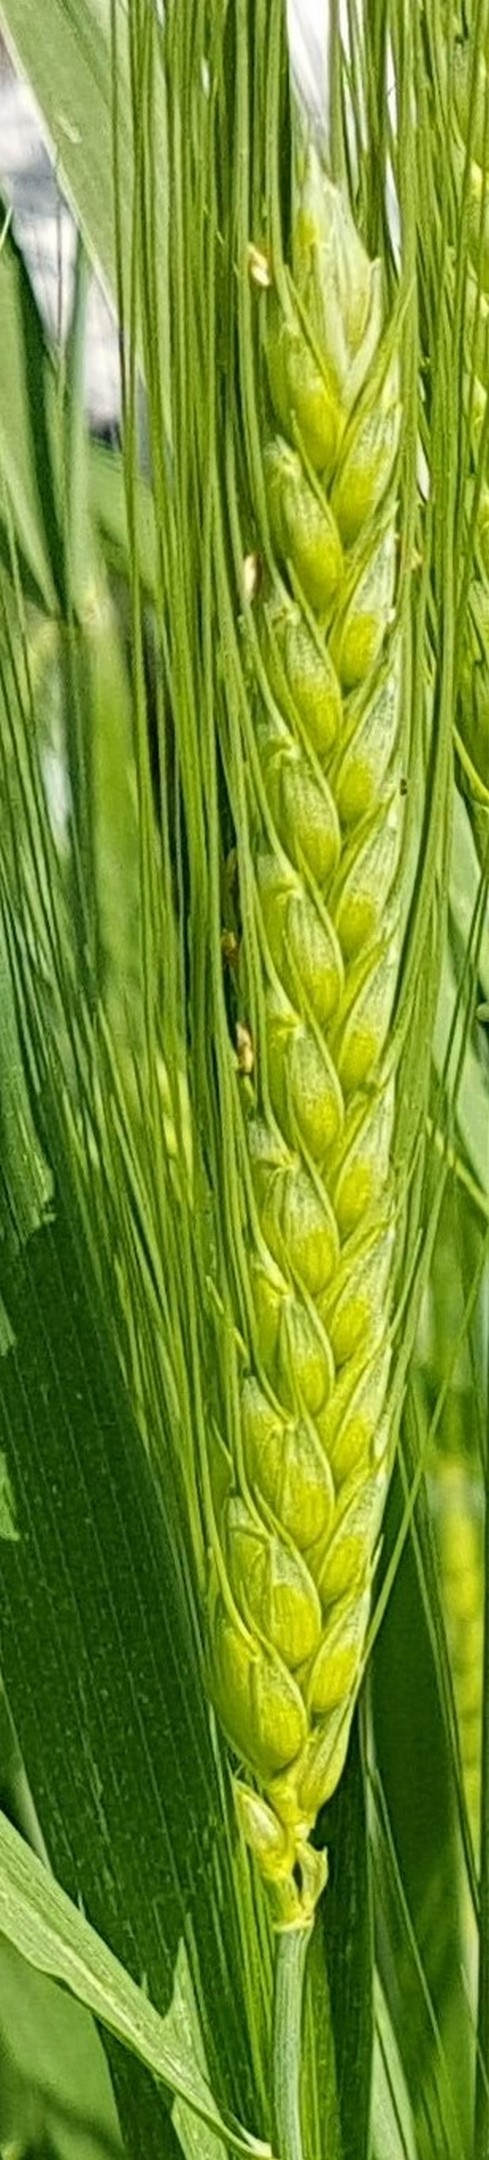Healthy Wheat: (150, 189, 455, 1840)
